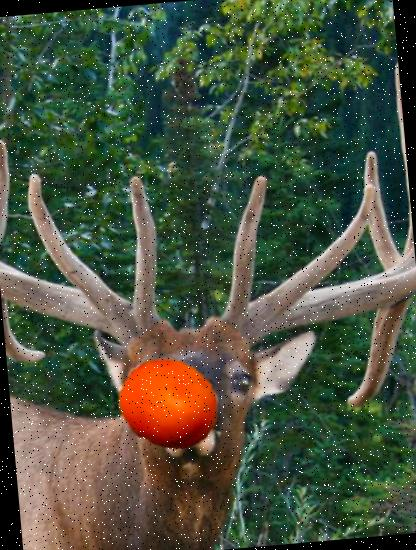Apricot: (113, 349, 224, 460)
